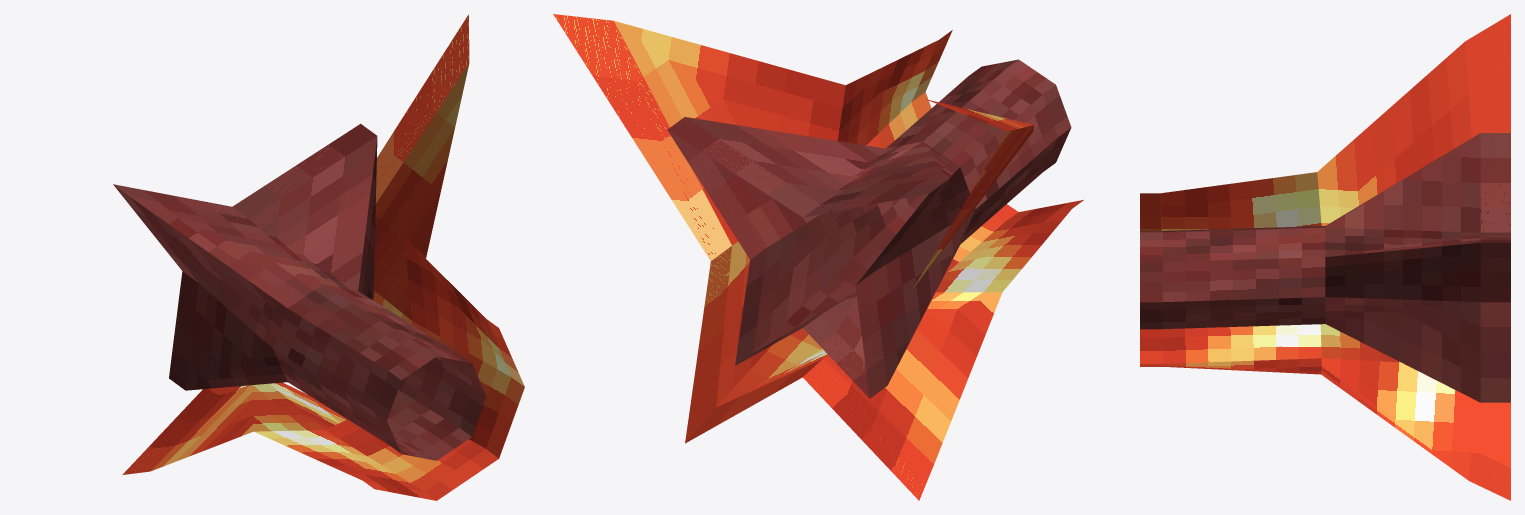
File: tree-hell-bottom.glb
3 renders of one model, left to right at view 1: azimuth 30°, elevation 25°; view 2: azimuth 150°, elevation 25°; view 3: azimuth 270°, elevation 25°, orthographic. The views are drawn at different scales.
Parts seen in each view (by area): view 1: tree-hell-bottom; view 2: tree-hell-bottom; view 3: tree-hell-bottom.
Part boxes in pixels (x1,y1,x2,y2): tree-hell-bottom: (113, 14, 524, 500); tree-hell-bottom: (553, 14, 1083, 500); tree-hell-bottom: (1140, 14, 1510, 500).
Size of the model in its own units: 1.28 by 1.02 by 1.
2 materials, 2 textured.
